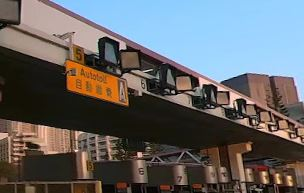Autotoll: (65, 58, 129, 108)
